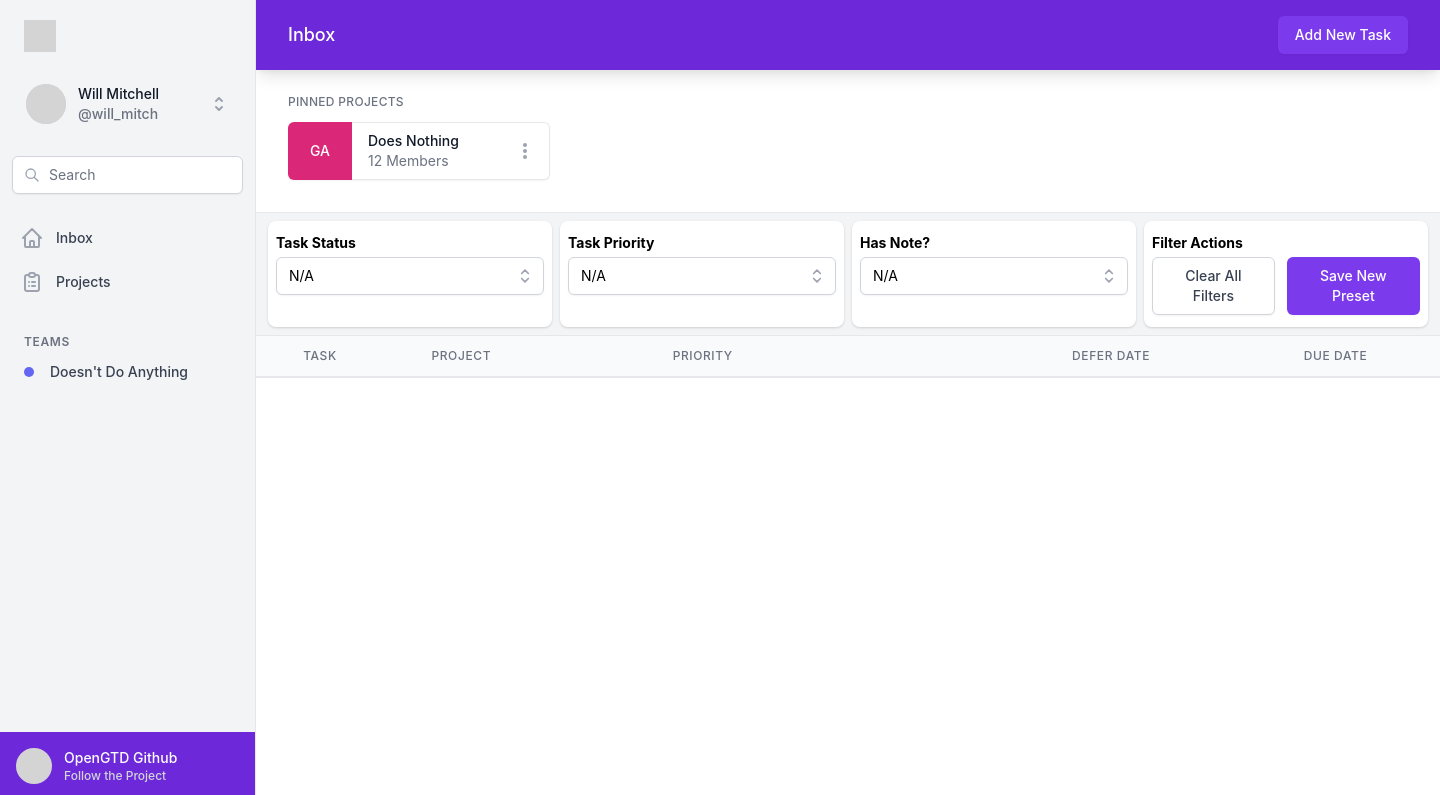
Test: Selected Tasks › Selected Task - Mechanical Page Changes › Expects the selected task pane to close
Click the button "Add New Task" at [1343, 35], box [1278, 16, 1408, 54]
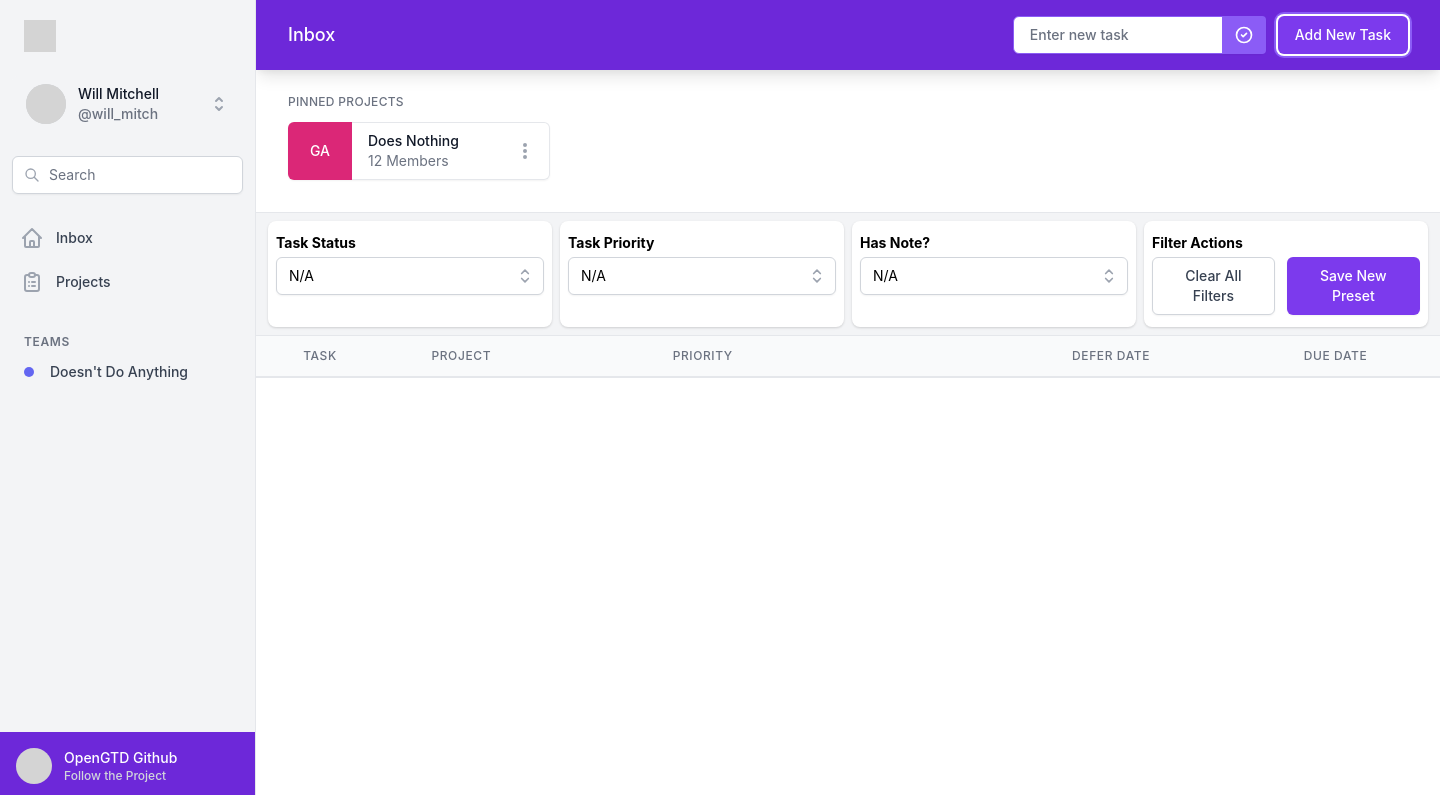
Type "Cypress test task" into the field with id "addTaskInput" at [1140, 35], box [1013, 16, 1266, 54]
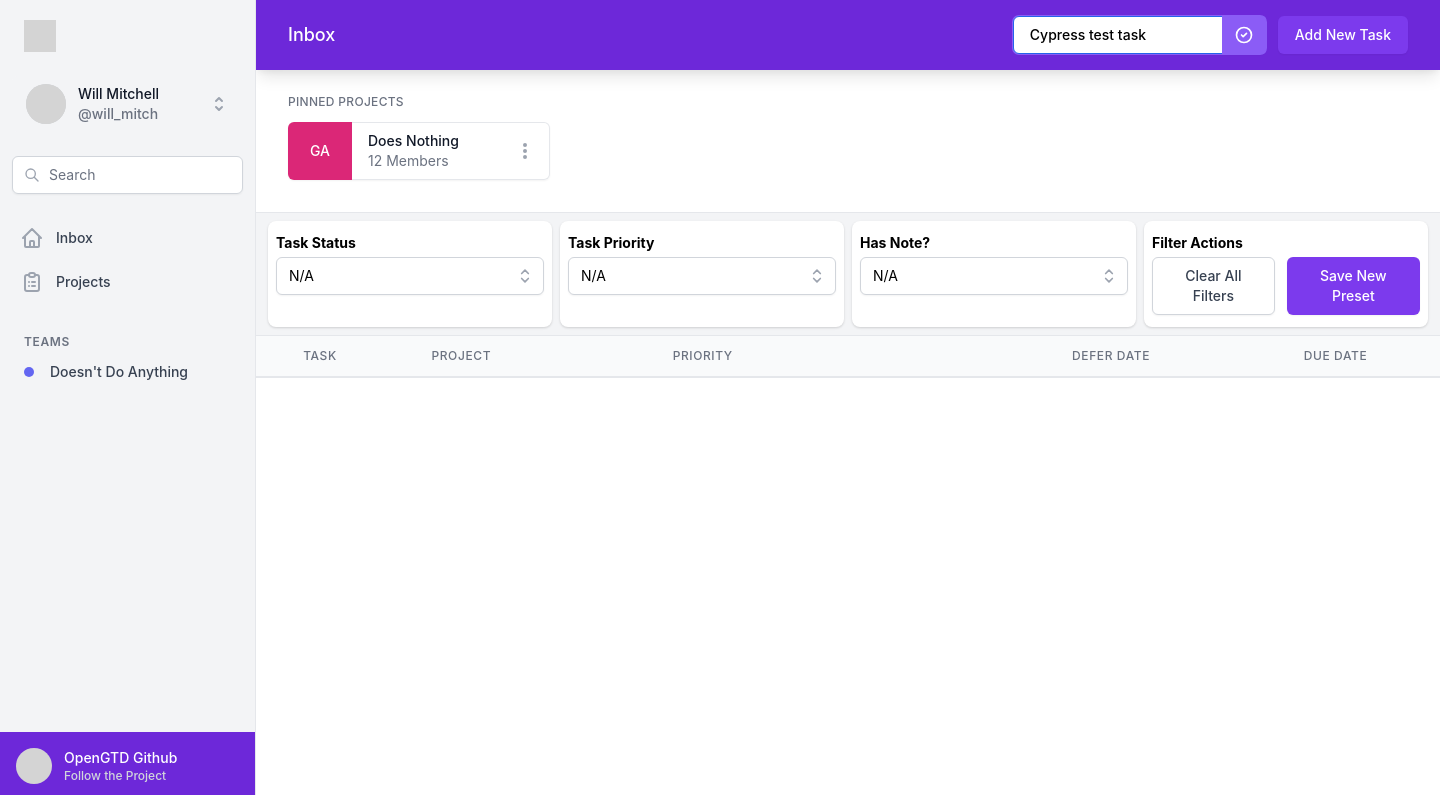
Click the button with id "submitNewTaskButton" at [1244, 35], box [1222, 16, 1266, 54]
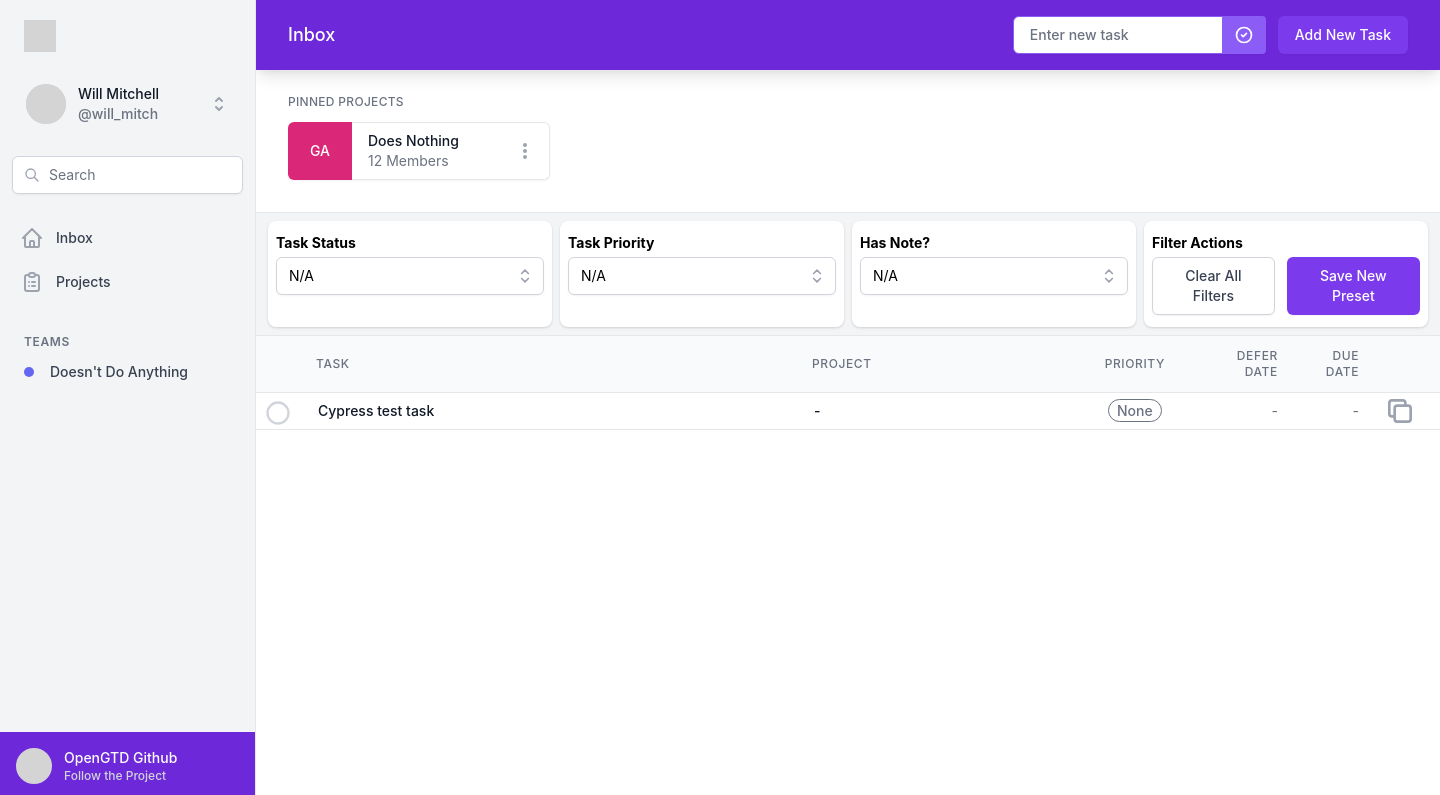
Click the row with id "taskId0" at [376, 411], box [256, 393, 1439, 430]
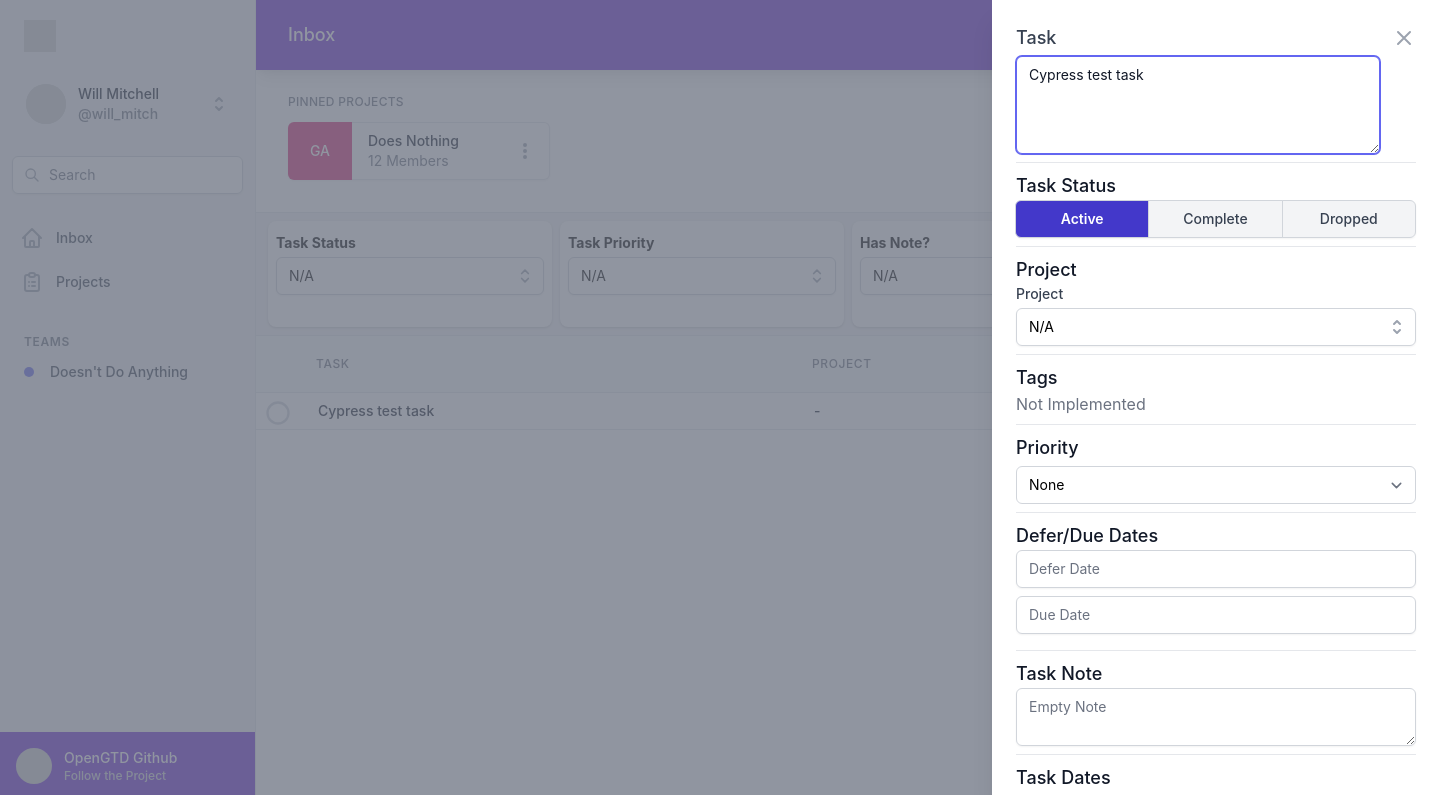
Click the button with id "closeSelectedTask" at [1404, 38], box [1392, 26, 1416, 50]
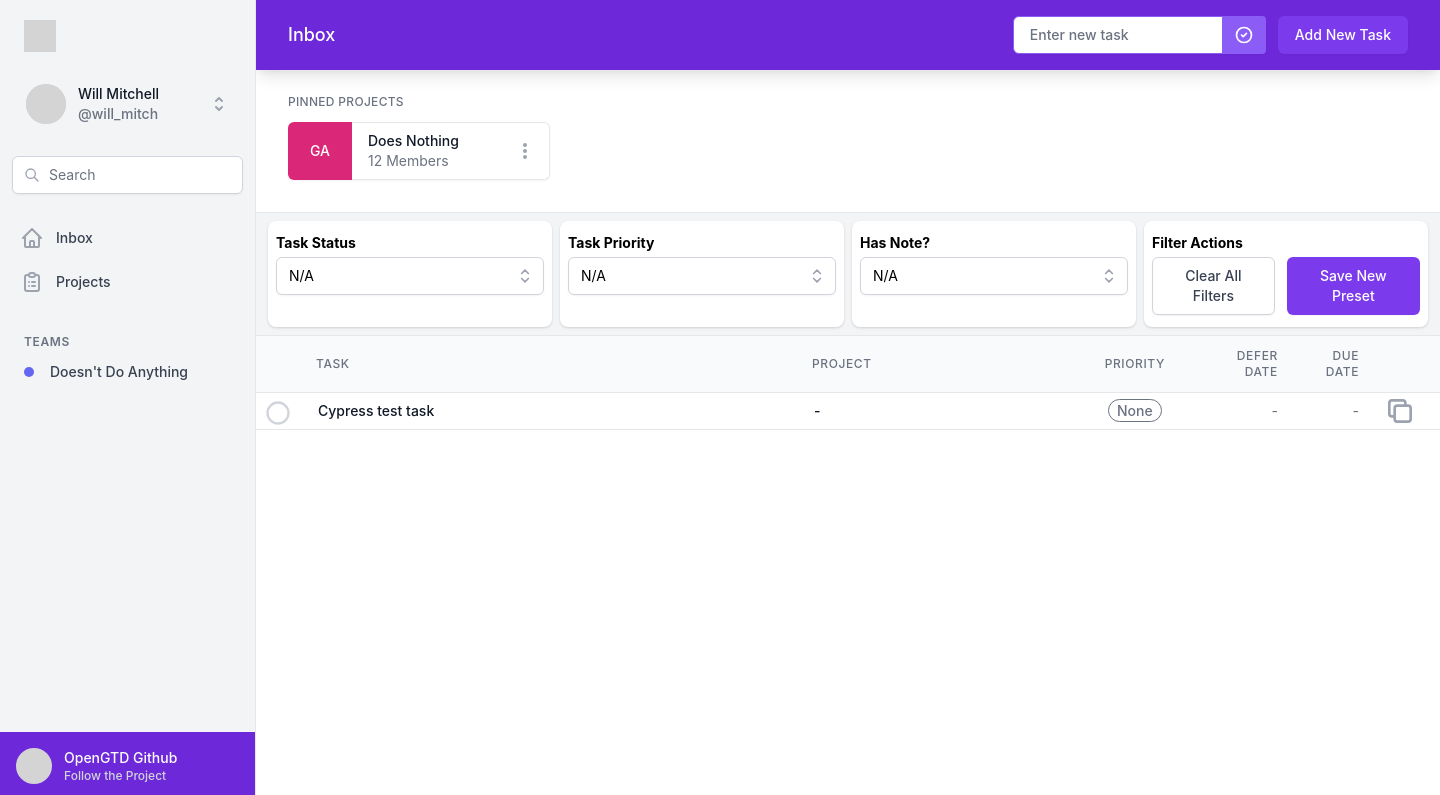
Now the text box with id "selectedTaskName" is gone
